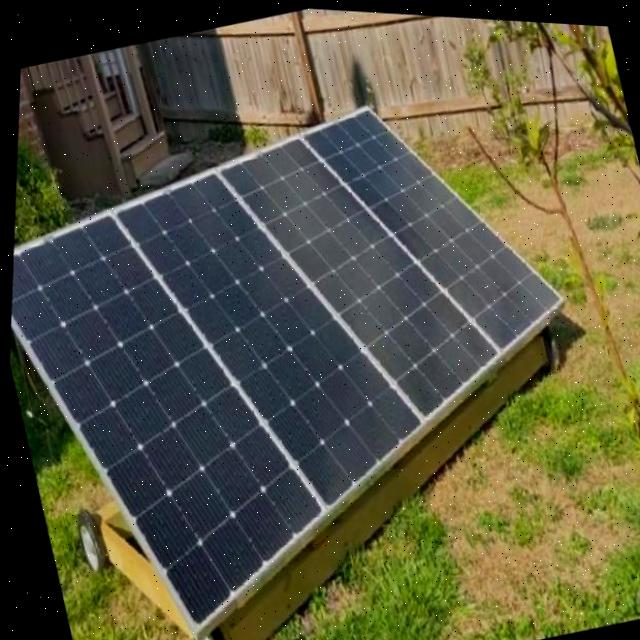Normal Solar Panel: (1, 46, 626, 640)
